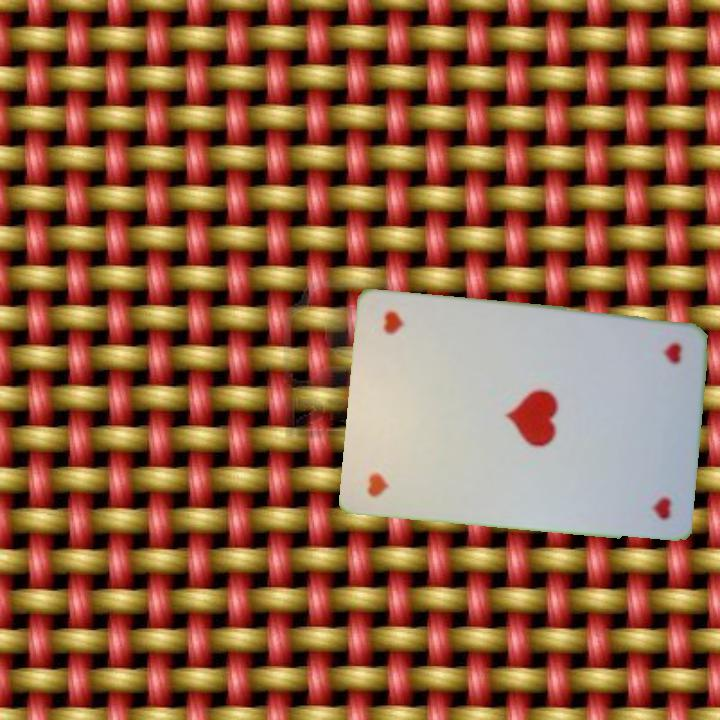h_a.png: (599, 327, 693, 434), (355, 399, 449, 506)
